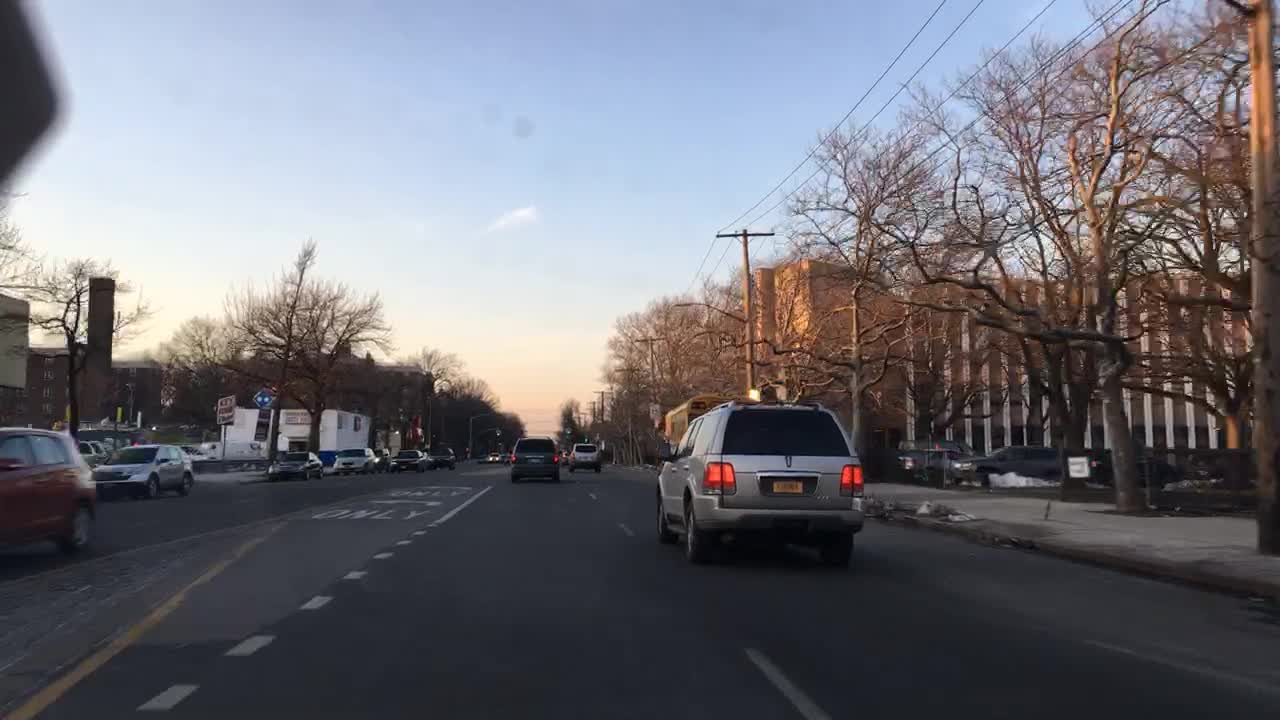bus: (658, 393, 754, 463)
car: (654, 401, 865, 563), (1, 427, 95, 553), (91, 442, 194, 497), (953, 444, 1057, 480), (1088, 450, 1178, 485), (509, 436, 560, 482), (265, 448, 322, 481), (900, 448, 969, 471), (333, 447, 373, 475), (388, 446, 426, 472), (568, 443, 602, 472), (425, 445, 456, 469), (373, 447, 399, 470), (179, 445, 215, 461), (87, 439, 110, 458), (78, 439, 95, 460), (101, 441, 116, 453), (558, 449, 569, 465), (476, 451, 488, 463), (488, 452, 499, 462), (504, 451, 511, 465), (498, 451, 504, 462)
traffic light: (565, 425, 572, 436)
traffic sign: (215, 392, 234, 425), (253, 388, 274, 406)
